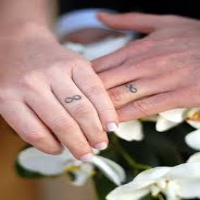ring: (21, 91, 83, 151), (109, 75, 152, 105)
